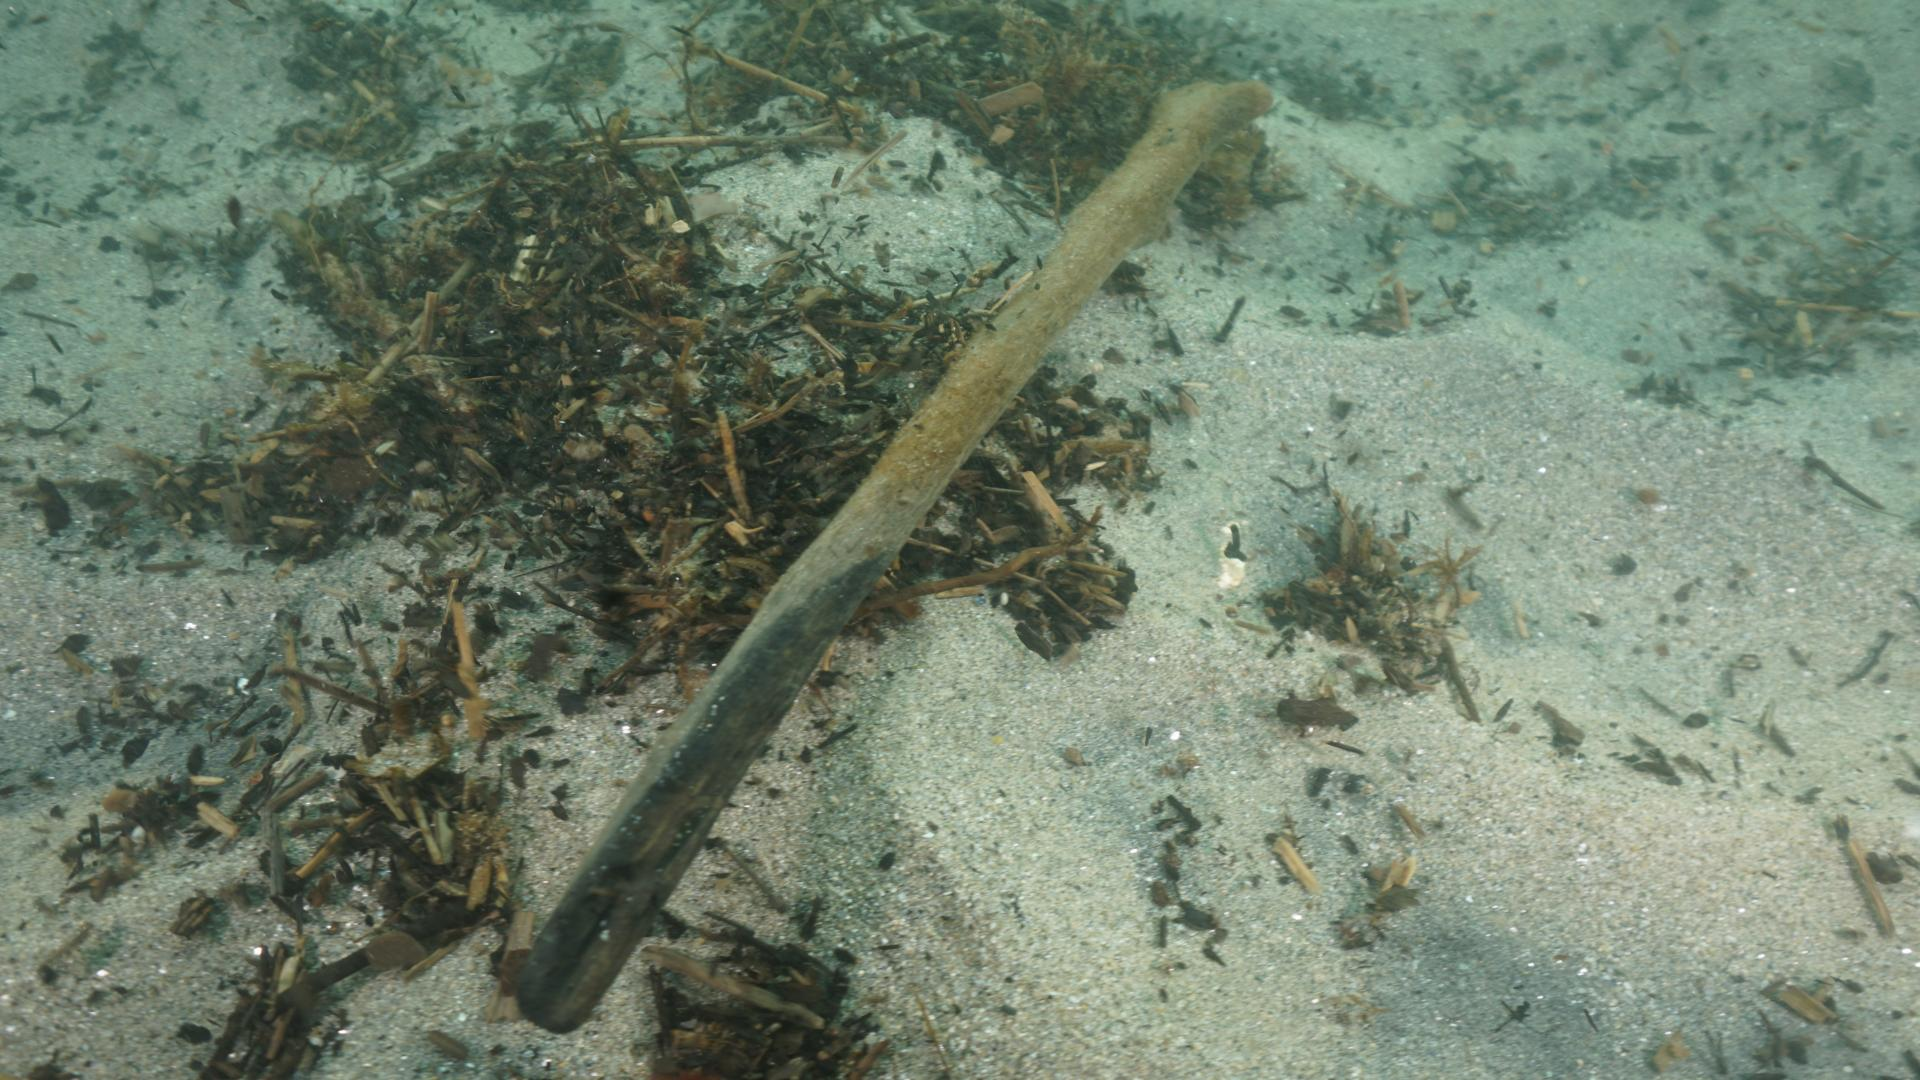wood: (512, 78, 1273, 1034)
